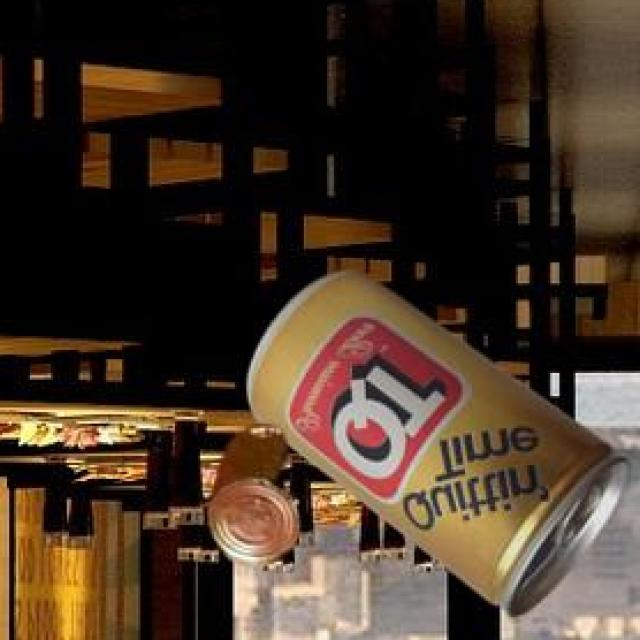logam: (247, 275, 625, 620), (204, 429, 296, 570)
